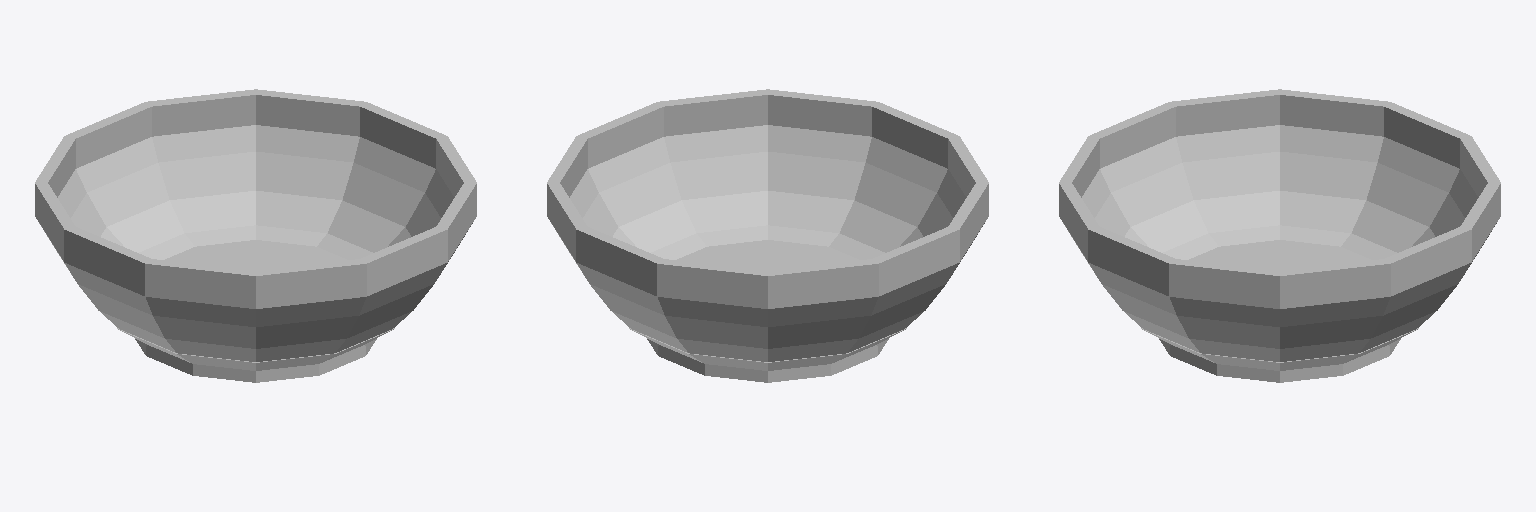
The model's file is bowl.obj.
3 renders of one model, left to right at view 1: azimuth 30°, elevation 25°; view 2: azimuth 150°, elevation 25°; view 3: azimuth 270°, elevation 25°, orthographic.
Parts seen in each view (by area): view 1: Bowl; view 2: Bowl; view 3: Bowl.
Part boxes in pixels (left/top/right/bottom): Bowl: left=35, top=89, right=476, bottom=382; Bowl: left=547, top=89, right=988, bottom=382; Bowl: left=1059, top=89, right=1500, bottom=382.
Bounding box in the file's own units: 3.48 × 1.27 × 3.48.